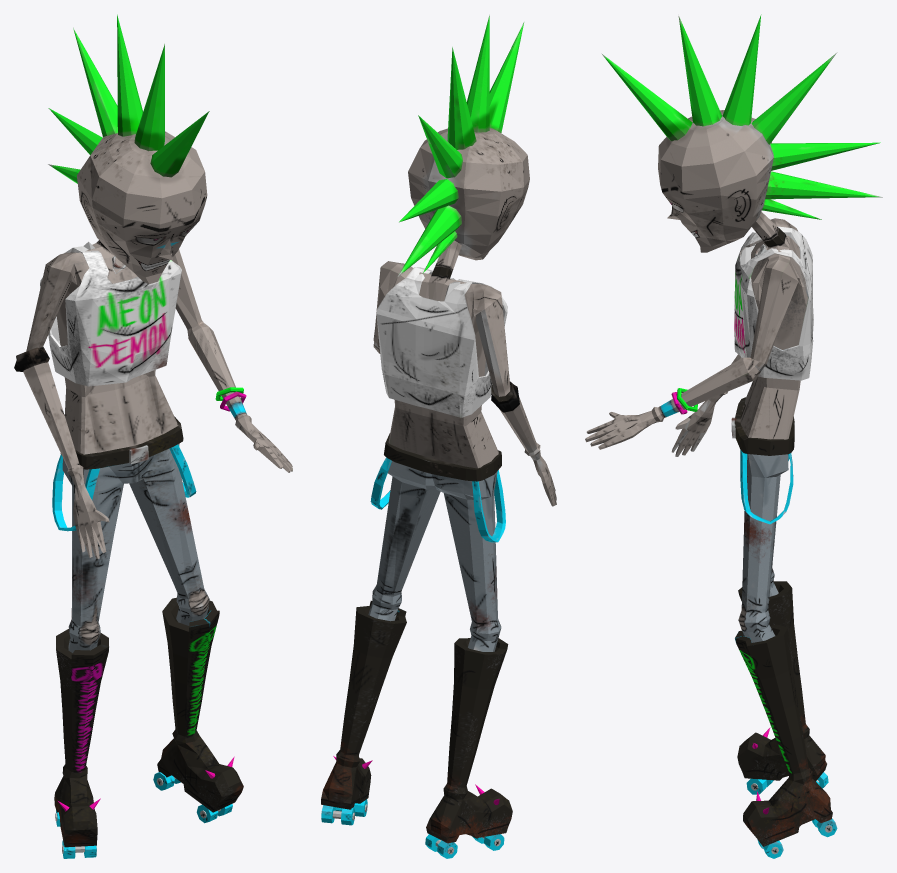
Rendered from punkAnimation_000028.obj.
3 renders of one model, left to right at view 1: azimuth 30°, elevation 25°; view 2: azimuth 150°, elevation 25°; view 3: azimuth 270°, elevation 25°, orthographic. The views are drawn at different scales.
Visible parts, largest first — view 1: Cube.004_Cube.003; view 2: Cube.004_Cube.003; view 3: Cube.004_Cube.003.
Part boxes in pixels (bbox=[...]): Cube.004_Cube.003: bbox=[14, 14, 292, 858]; Cube.004_Cube.003: bbox=[321, 15, 556, 858]; Cube.004_Cube.003: bbox=[585, 14, 882, 858].
Size of the model in its own units: 1.97 by 7.53 by 2.56.
